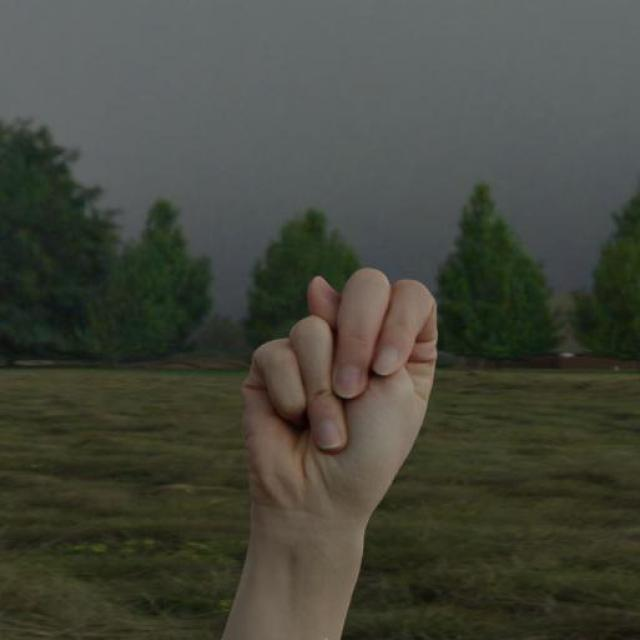N: (236, 266, 443, 525)
